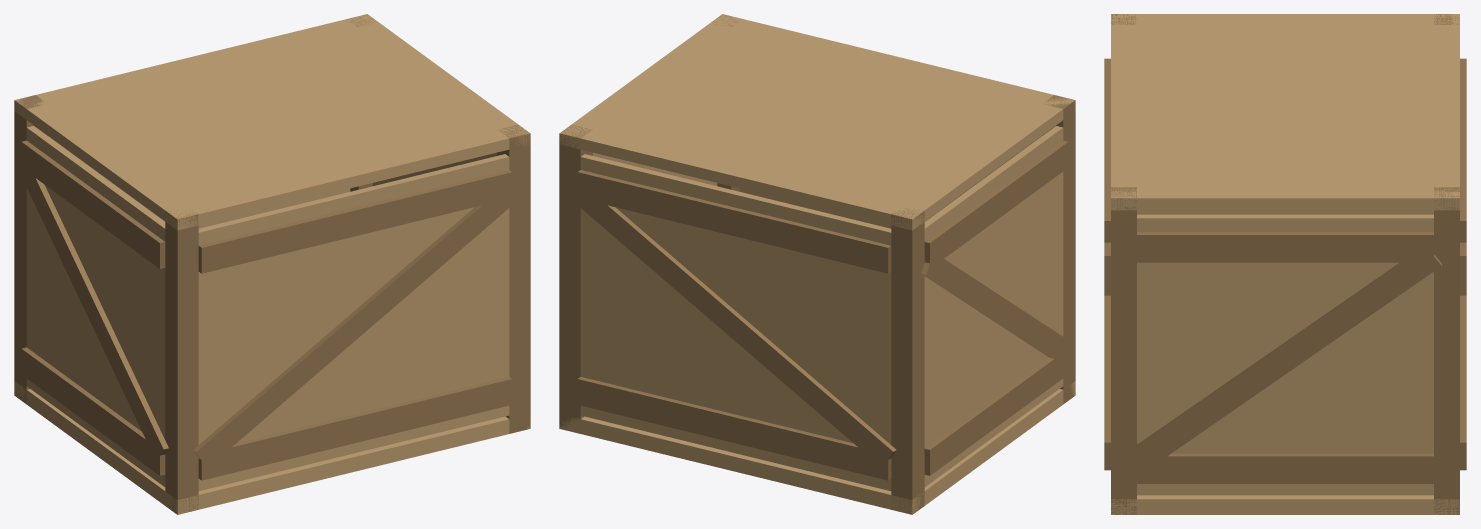
Rendered from crate-large.glb.
3 views of the same model, side by side, from view 1: azimuth 30°, elevation 25°; view 2: azimuth 150°, elevation 25°; view 3: azimuth 270°, elevation 25° (orthographic). The views are drawn at different scales.
Visible parts, largest first — view 1: Prop_CrateLarge_mesh; view 2: Prop_CrateLarge_mesh; view 3: Prop_CrateLarge_mesh.
Boxes of the visible parts, x1,y1,x2,y2 form: Prop_CrateLarge_mesh: (14, 14, 530, 514); Prop_CrateLarge_mesh: (559, 14, 1075, 514); Prop_CrateLarge_mesh: (1104, 14, 1466, 514).
Size of the model in its own units: 1.03 by 0.8 by 0.83.
